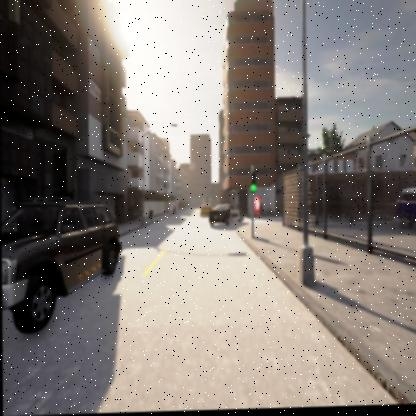vehicle: (1, 190, 123, 331), (208, 204, 245, 229), (199, 205, 212, 218)
